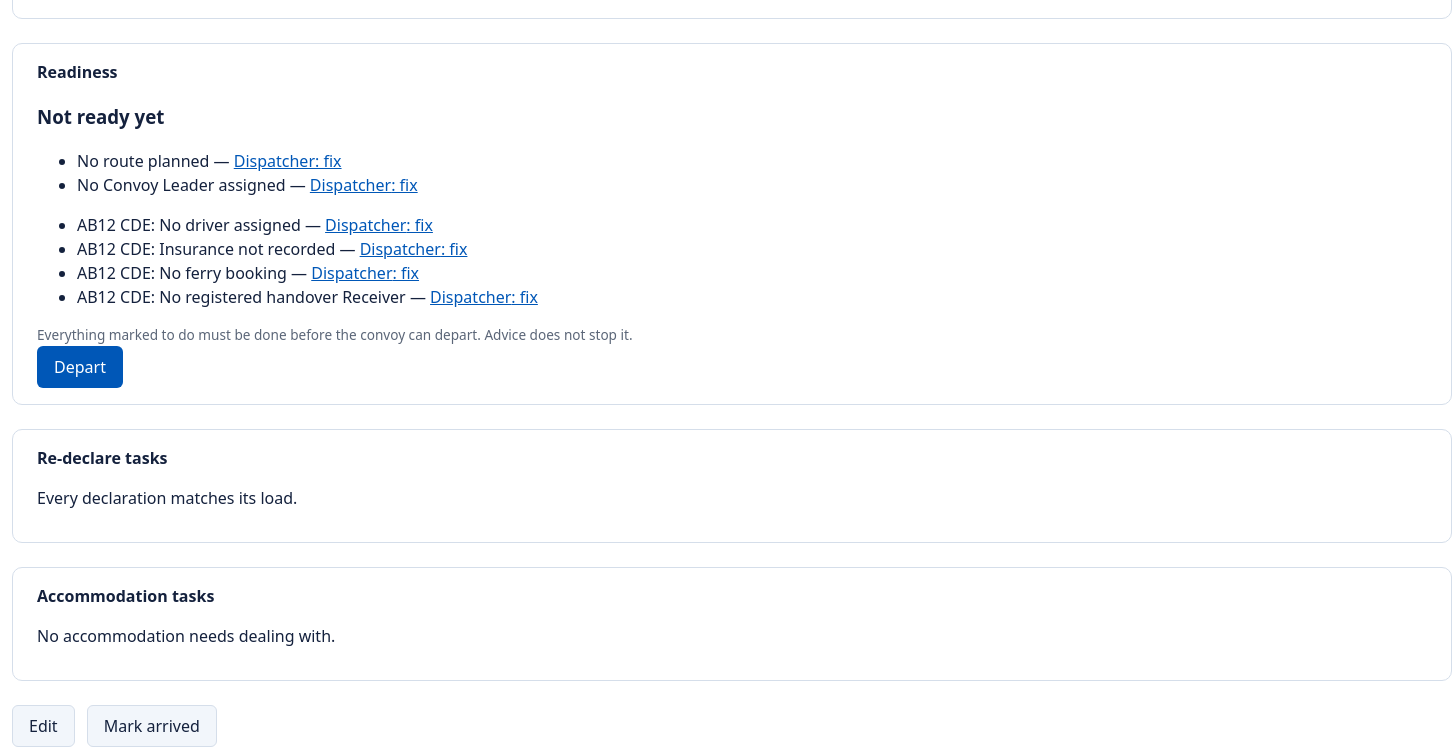
Test case: marking arrival names the vehicles still on the road
(page scrolled)
Click the button "Mark arrived" at coordinates (152, 726), box 87,705 -> 217,746
(page scrolled)
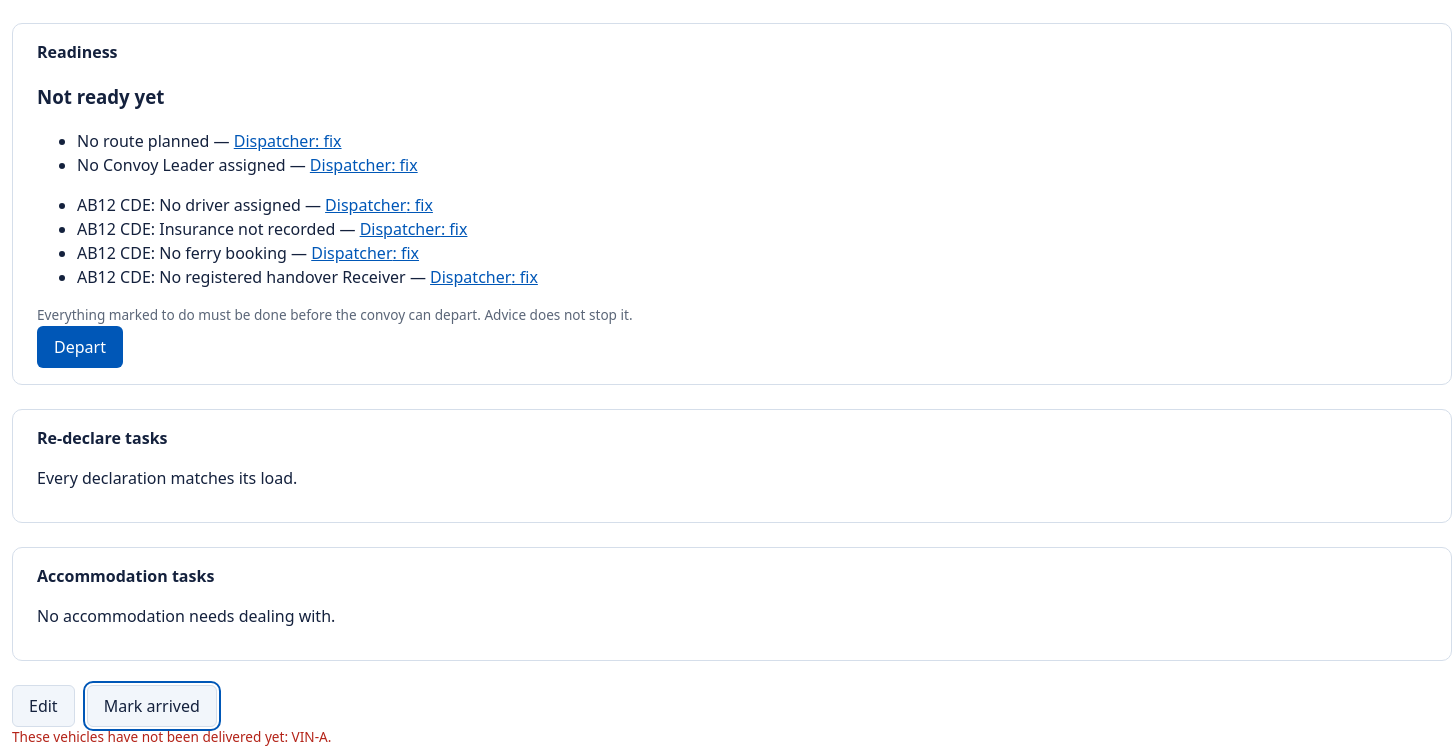
Check: the message "These vehicles have not been delivered yet: VIN-A." is shown, box 12,727 -> 331,746
